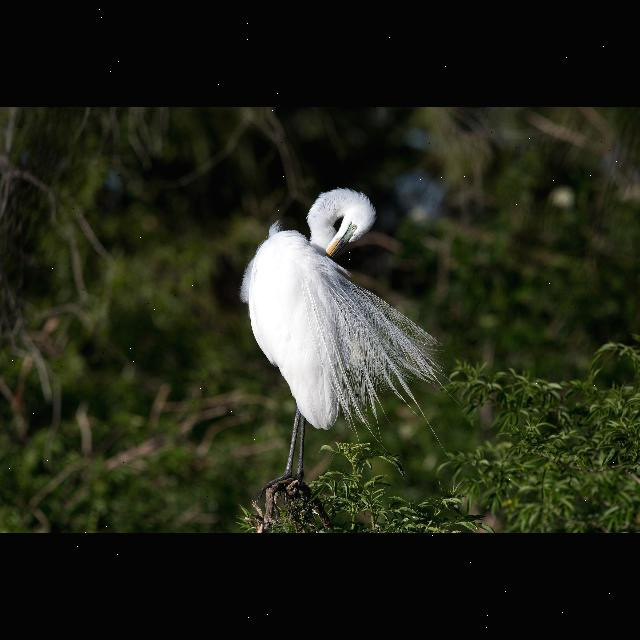egret: (228, 186, 437, 514)
